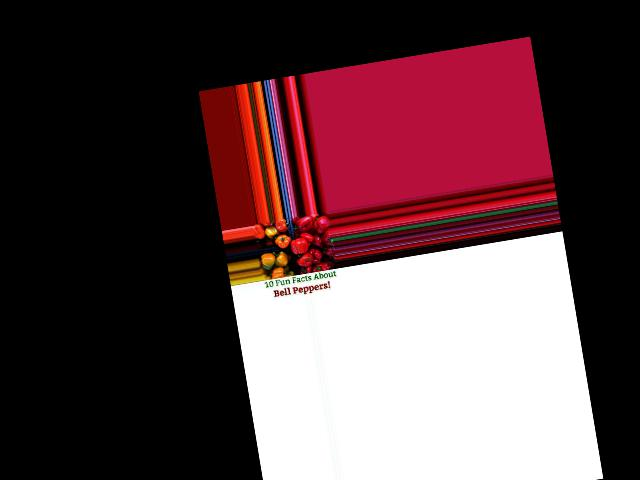bell_pepper: (307, 258, 330, 275)
